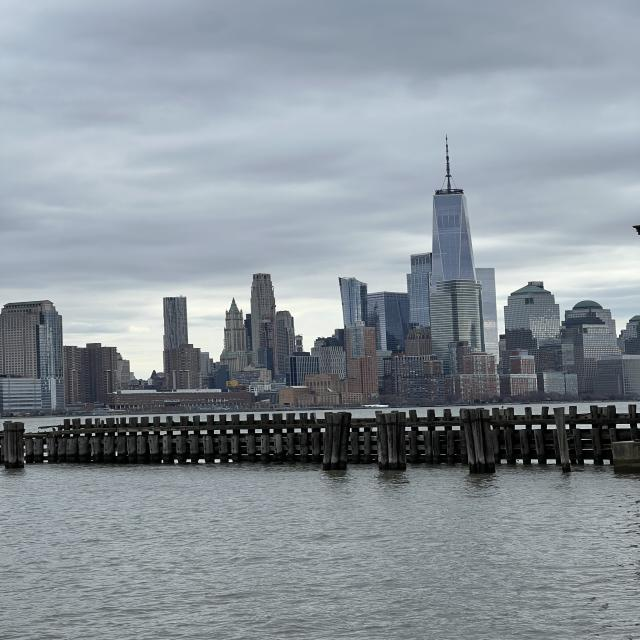WTC: (431, 134, 477, 288)
